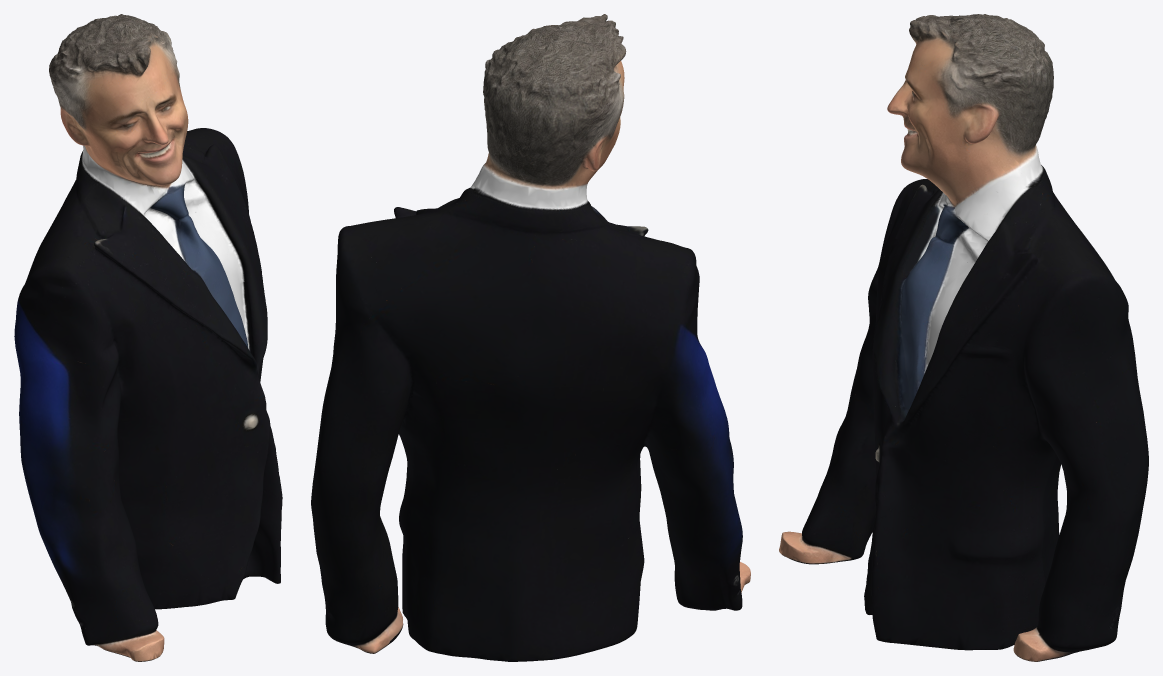
The model's file is Matt_LeBlanc_IITM-v4.glb.
3 views of the same model, side by side, from view 1: azimuth 30°, elevation 25°; view 2: azimuth 150°, elevation 25°; view 3: azimuth 270°, elevation 25° (orthographic). The views are drawn at different scales.
Size of the model in its own units: 1.01 by 1.9 by 1.12.
1 material, 1 textured.
